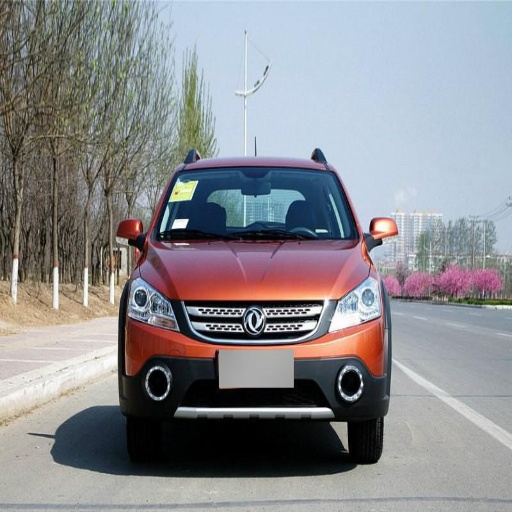front_bumper: (124, 299, 389, 419)
front_right_light: (125, 280, 181, 332)
hood: (141, 242, 371, 303)
